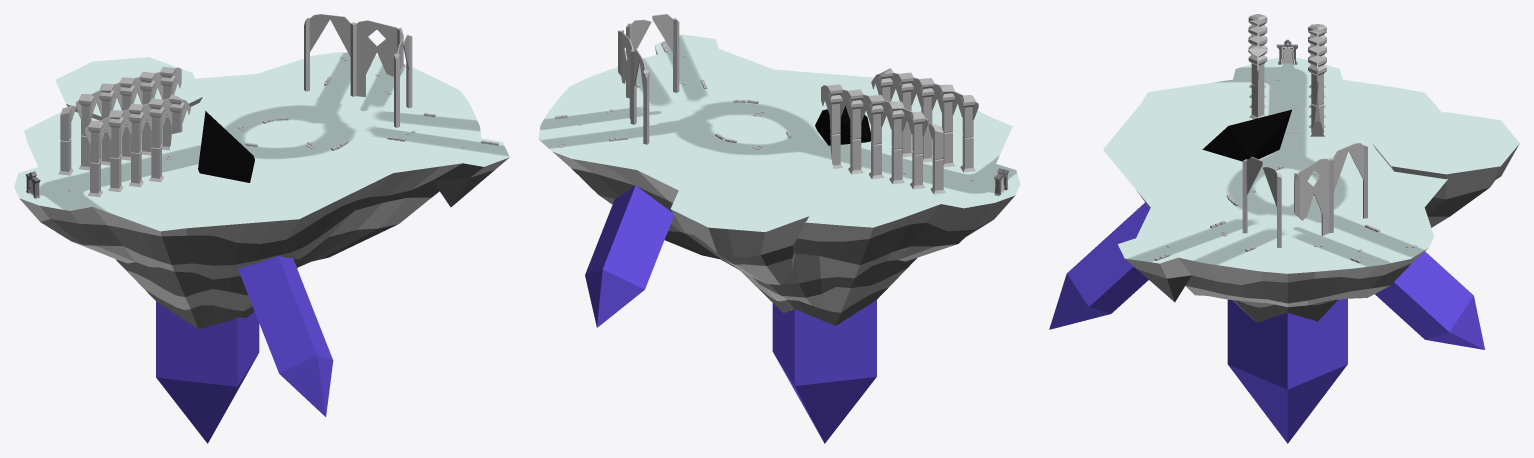
File: island6.fbx
3 renders of one model, left to right at view 1: azimuth 30°, elevation 25°; view 2: azimuth 150°, elevation 25°; view 3: azimuth 270°, elevation 25°, orthographic.
Parts seen in each view (by area): view 1: island6_grass_road, island6_rocks, island6_crystals, island6_coluna1, island6_coluna2, island6_fachada1, island6_obsidian, island6_fachada2, island6_calcada; view 2: island6_grass_road, island6_rocks, island6_crystals, island6_coluna1, island6_coluna2, island6_fachada1, island6_fachada2, island6_obsidian, island6_calcada; view 3: island6_grass_road, island6_crystals, island6_rocks, island6_fachada1, island6_obsidian, island6_coluna1, island6_coluna2, island6_fachada2, island6_calcada.
Boxes of the visible parts, left/top/right/bottom form: island6_grass_road: left=14, top=52, right=509, bottom=231; island6_rocks: left=19, top=97, right=508, bottom=329; island6_crystals: left=156, top=256, right=333, bottom=443; island6_coluna1: left=58, top=66, right=181, bottom=175; island6_coluna2: left=85, top=94, right=190, bottom=197; island6_fachada1: left=304, top=14, right=403, bottom=96; island6_obsidian: left=198, top=111, right=254, bottom=182; island6_fachada2: left=394, top=34, right=412, bottom=127; island6_calcada: left=68, top=56, right=498, bottom=191; island6_grass_road: left=538, top=34, right=1020, bottom=231; island6_rocks: left=553, top=46, right=1015, bottom=325; island6_crystals: left=585, top=185, right=876, bottom=443; island6_coluna1: left=821, top=84, right=945, bottom=194; island6_coluna2: left=871, top=68, right=978, bottom=172; island6_fachada1: left=618, top=30, right=649, bottom=144; island6_fachada2: left=626, top=14, right=679, bottom=98; island6_obsidian: left=815, top=106, right=870, bottom=145; island6_calcada: left=555, top=43, right=975, bottom=181; island6_grass_road: left=1103, top=58, right=1519, bottom=273; island6_crystals: left=1049, top=202, right=1484, bottom=443; island6_rocks: left=1125, top=144, right=1519, bottom=322; island6_fachada1: left=1294, top=143, right=1367, bottom=235; island6_obsidian: left=1202, top=109, right=1291, bottom=161; island6_coluna1: left=1308, top=24, right=1326, bottom=136; island6_coluna2: left=1248, top=14, right=1267, bottom=119; island6_fachada2: left=1242, top=156, right=1281, bottom=247; island6_calcada: left=1154, top=78, right=1417, bottom=263.
Size of what is drawn, in the model's own units: 8620 by 6898 by 7899.
